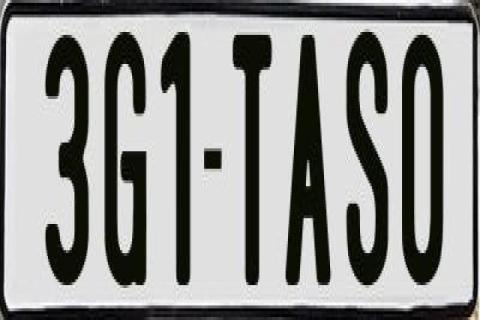0: (46, 32, 94, 296), (398, 26, 440, 288), (158, 32, 193, 300)
A: (282, 29, 328, 294)
G: (104, 32, 146, 288)
S: (346, 29, 394, 297)
T: (230, 29, 272, 282)
